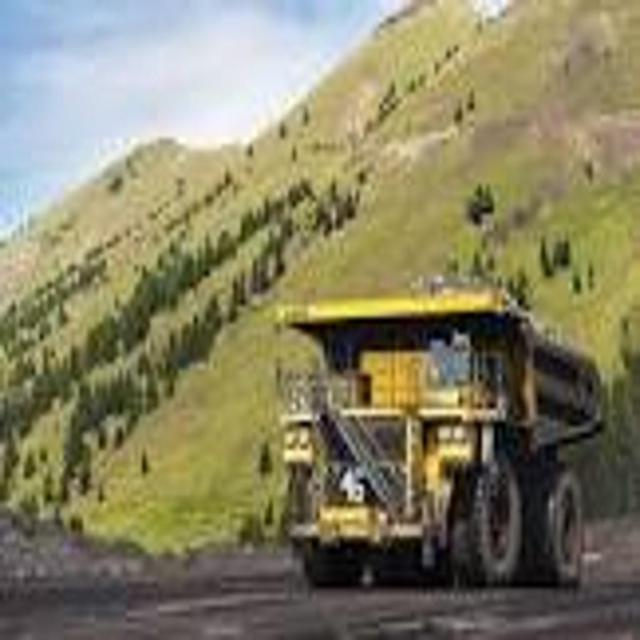dump_truck: (275, 287, 610, 591)
